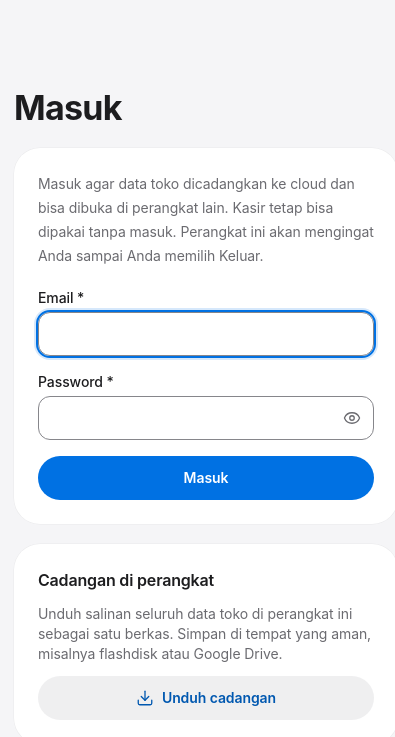
Masuk: download a backup file › downloads the file and says how many records it holds
Click the button "Unduh cadangan" at (206, 698), box [38, 676, 374, 720]
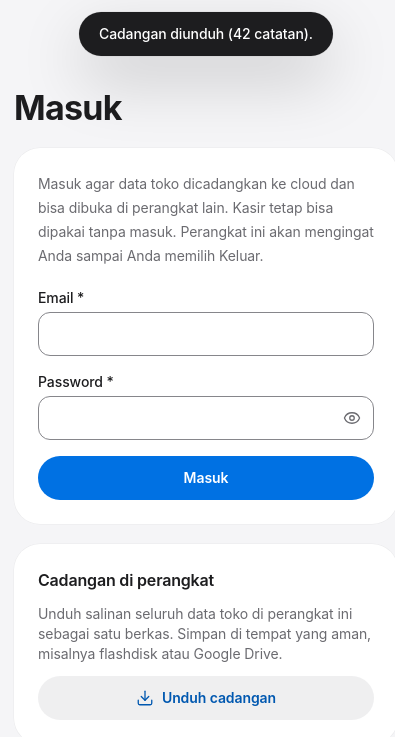
expect the text "Cadangan diunduh (42 catatan)." is shown: met, box [79, 12, 333, 56]
